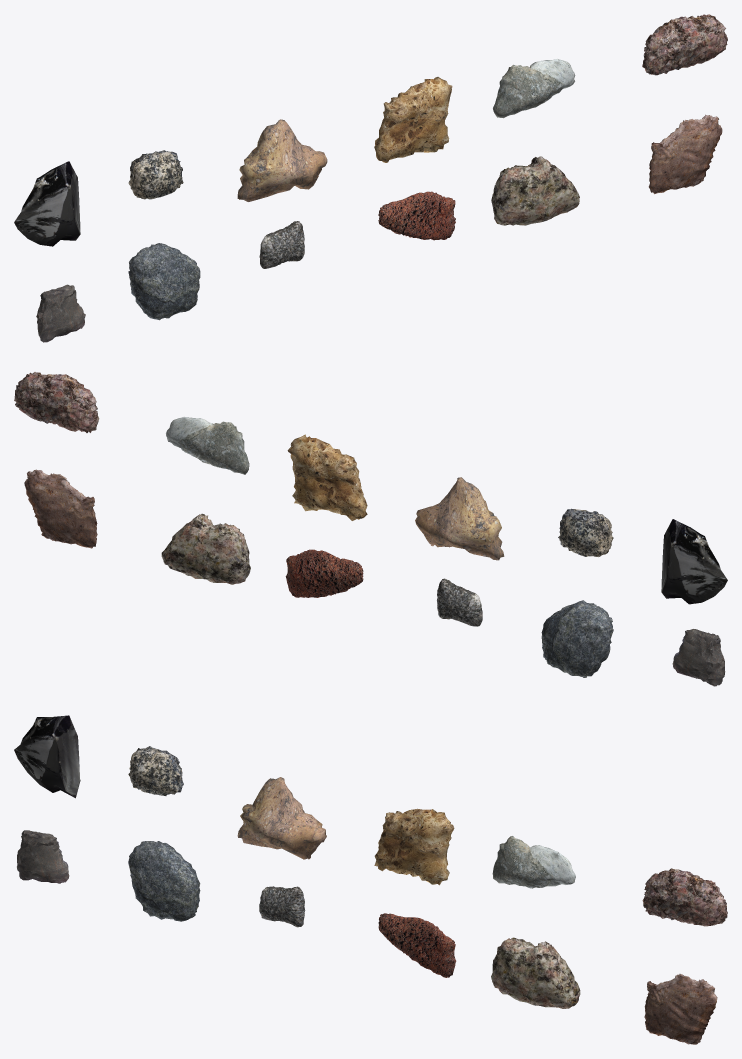
The model's file is Igneous Rocks.glb.
3 renders of one model, top to bottom at view 1: azimuth 30°, elevation 25°; view 2: azimuth 150°, elevation 25°; view 3: azimuth 330°, elevation 25°, orthographic.
Visible parts, largest first — view 1: Pumice, Tuff, Granite, Peridotite, Obsidian, Rhyolite, Pegmatite, Andesite, Scoria, Diorite, Basalt, Gabbro; view 2: Pumice, Granite, Tuff, Peridotite, Obsidian, Rhyolite, Pegmatite, Andesite, Scoria, Basalt, Diorite, Gabbro; view 3: Granite, Pumice, Peridotite, Tuff, Rhyolite, Obsidian, Pegmatite, Andesite, Scoria, Basalt, Diorite, Gabbro.
Boxes of the visible parts, left/top/right/bottom form: Pumice: left=374, top=77, right=452, bottom=162; Tuff: left=237, top=119, right=327, bottom=201; Granite: left=491, top=156, right=579, bottom=225; Peridotite: left=128, top=243, right=200, bottom=320; Obsidian: left=14, top=161, right=80, bottom=246; Rhyolite: left=648, top=114, right=722, bottom=194; Pegmatite: left=642, top=14, right=727, bottom=75; Andesite: left=493, top=58, right=575, bottom=118; Scoria: left=378, top=191, right=455, bottom=240; Diorite: left=128, top=150, right=183, bottom=199; Basalt: left=36, top=284, right=85, bottom=342; Gabbro: left=259, top=221, right=304, bottom=268; Pumice: left=287, top=434, right=367, bottom=520; Granite: left=161, top=513, right=250, bottom=584; Tuff: left=415, top=477, right=504, bottom=560; Peridotite: left=541, top=600, right=613, bottom=677; Obsidian: left=661, top=519, right=727, bottom=604; Rhyolite: left=24, top=469, right=97, bottom=548; Pegmatite: left=14, top=372, right=99, bottom=432; Andesite: left=166, top=416, right=249, bottom=474; Scoria: left=285, top=549, right=363, bottom=597; Basalt: left=672, top=629, right=725, bottom=686; Diorite: left=558, top=508, right=613, bottom=557; Gabbro: left=437, top=578, right=482, bottom=626; Granite: left=491, top=937, right=580, bottom=1008; Pumice: left=374, top=808, right=454, bottom=885; Peridotite: left=128, top=841, right=200, bottom=921; Tuff: left=237, top=777, right=326, bottom=859; Rhyolite: left=644, top=974, right=717, bottom=1044; Obsidian: left=14, top=715, right=80, bottom=798; Pegmatite: left=642, top=868, right=727, bottom=926; Andesite: left=492, top=836, right=575, bottom=888; Scoria: left=378, top=913, right=456, bottom=977; Basalt: left=17, top=830, right=69, bottom=883; Diorite: left=128, top=746, right=183, bottom=795; Gabbro: left=259, top=886, right=305, bottom=927.
Size of the model in its own units: 40.09 by 9.63 by 2.92.
12 materials, 12 textured.
